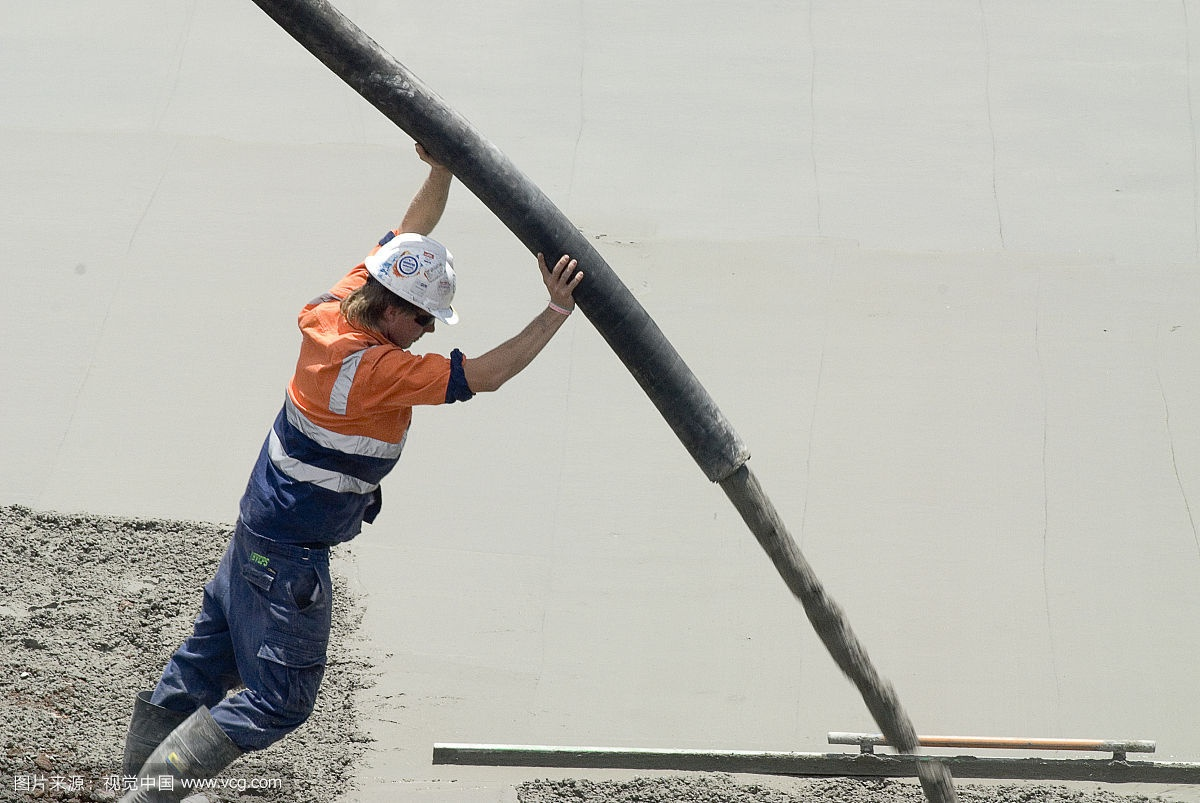white: (351, 226, 464, 347)
